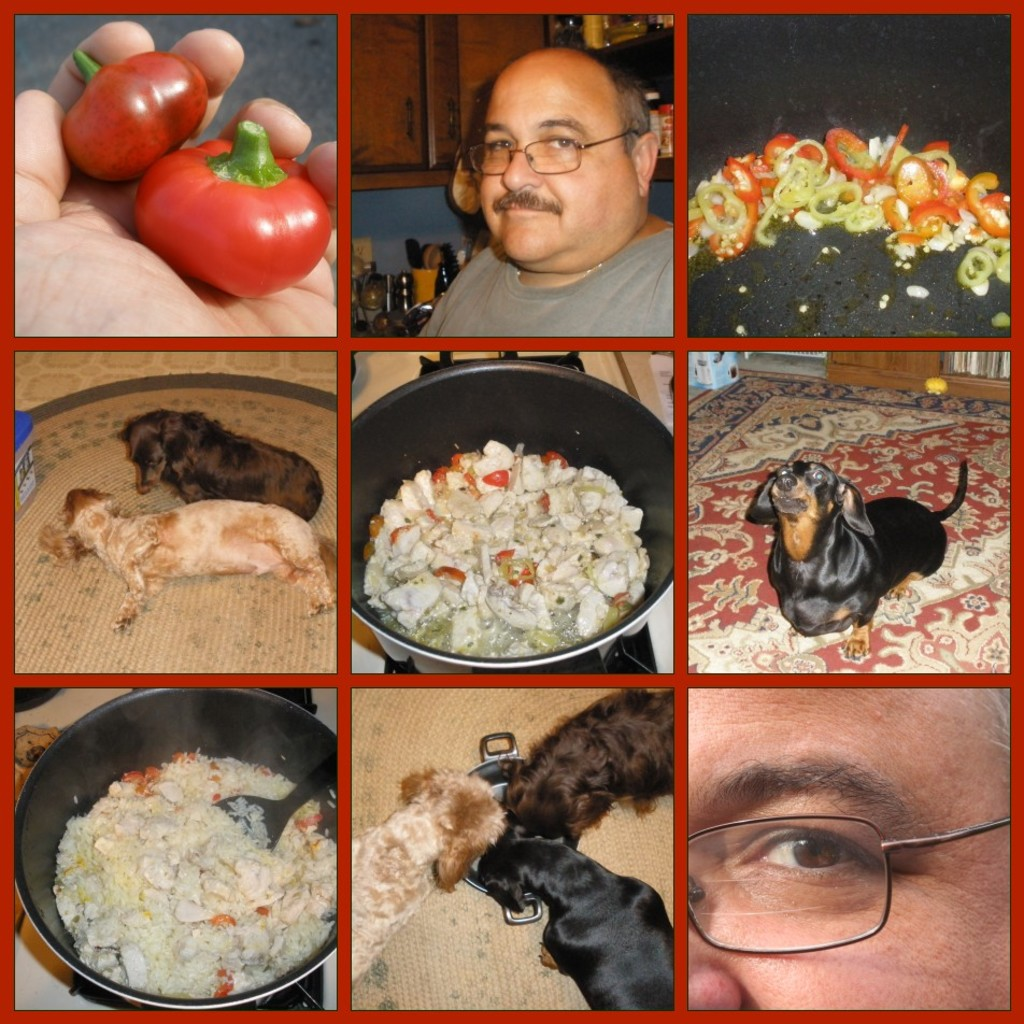Tomato: (129, 120, 336, 300), (54, 27, 218, 159)
